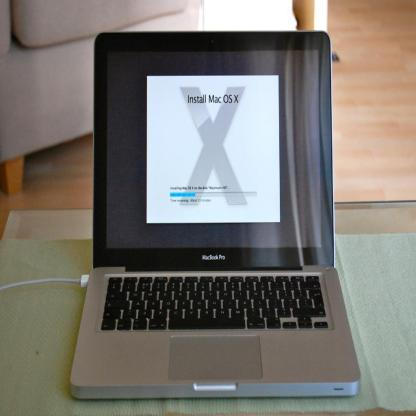board: (70, 31, 361, 400)
